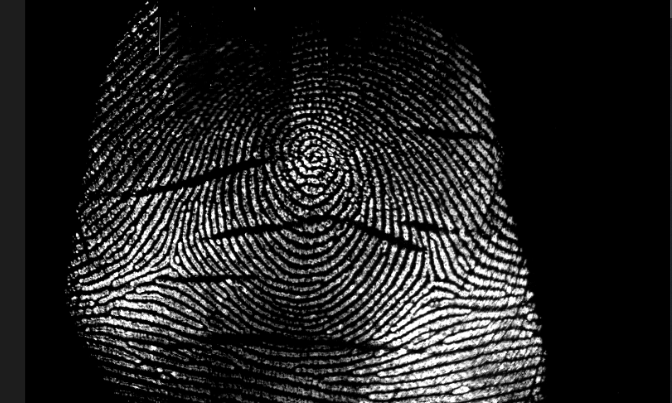deltas: (136, 230, 200, 294), (401, 254, 467, 309)
nucleo: (277, 132, 343, 183)
